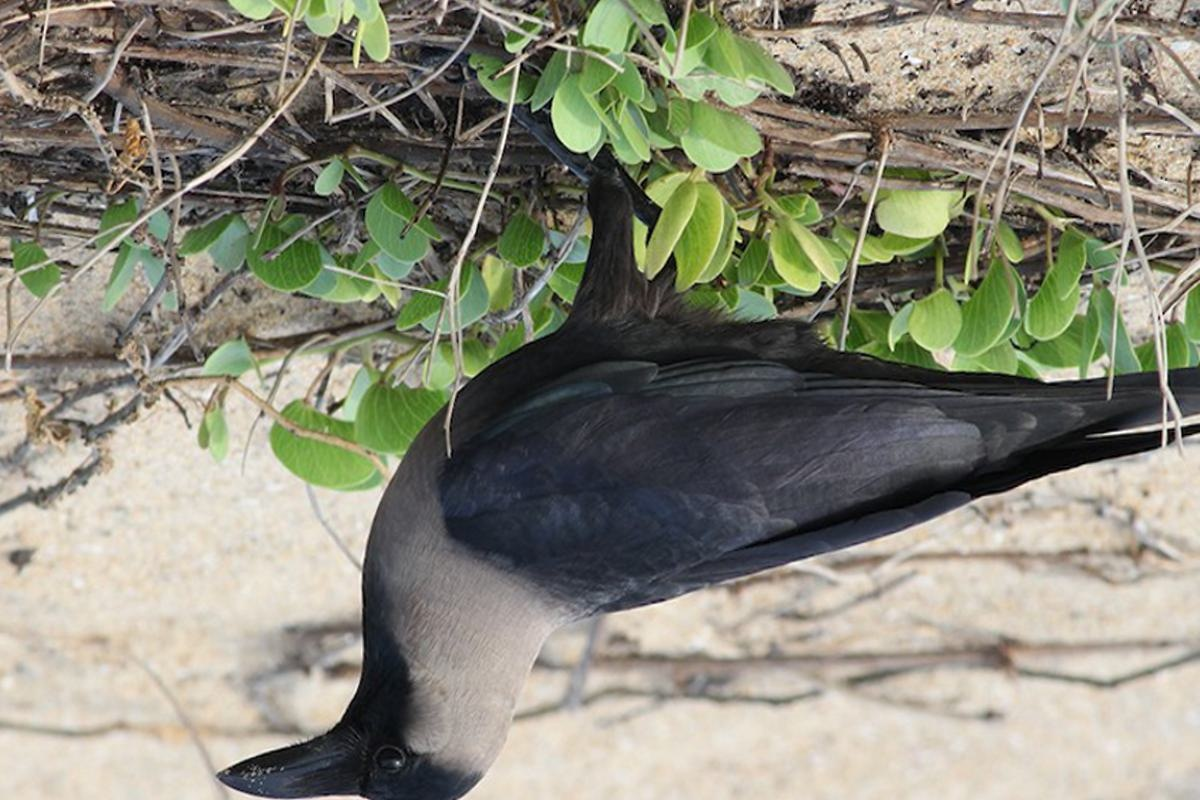crow: (215, 194, 1179, 795)
